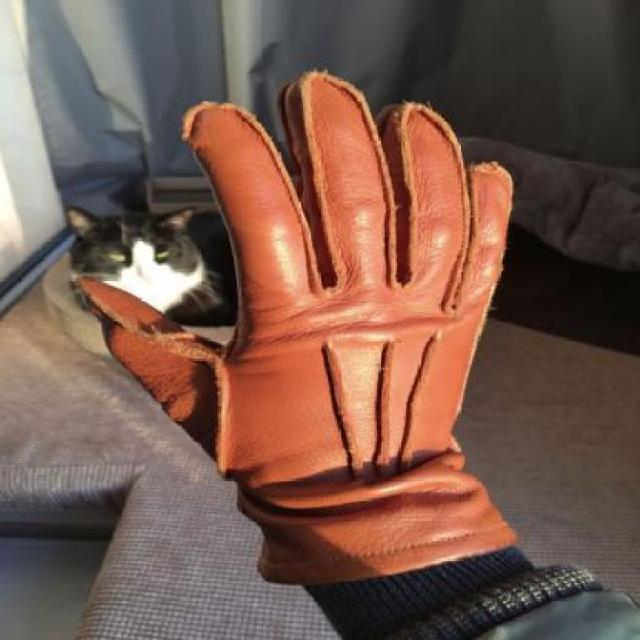hand_glove: (75, 76, 528, 530)
